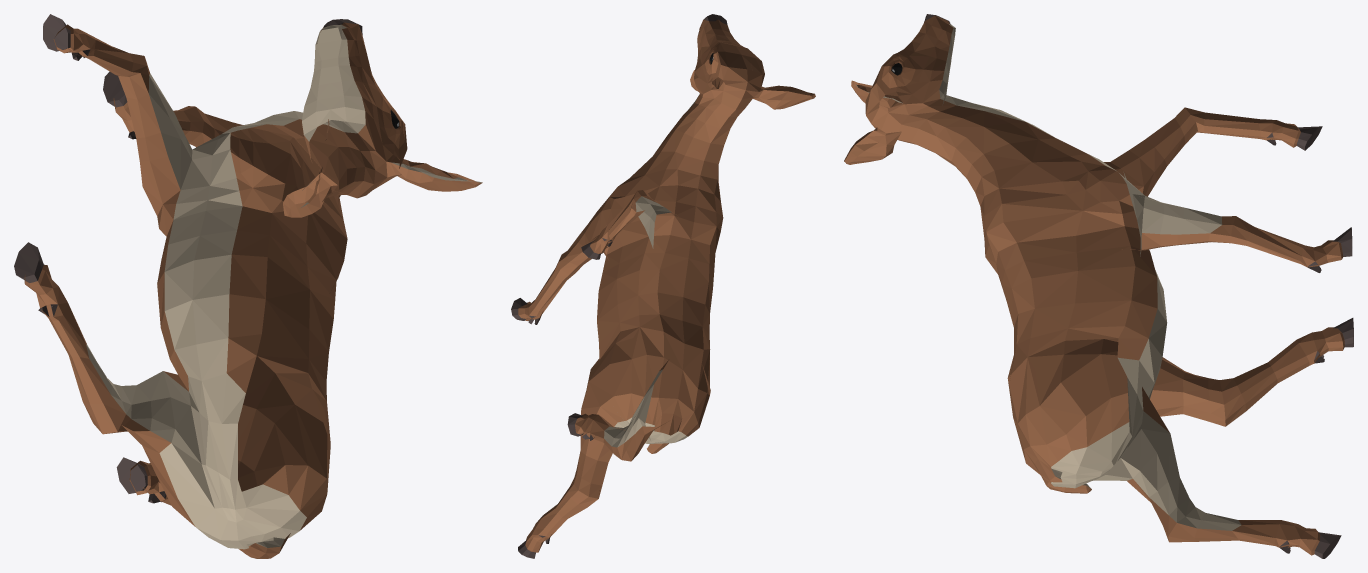
The model's file is deer-walk-5.glb.
3 views of the same model, side by side, from view 1: azimuth 30°, elevation 25°; view 2: azimuth 150°, elevation 25°; view 3: azimuth 270°, elevation 25° (orthographic). The views are drawn at different scales.
Size of the model in its own units: 0.4834 by 1.59 by 1.4.
